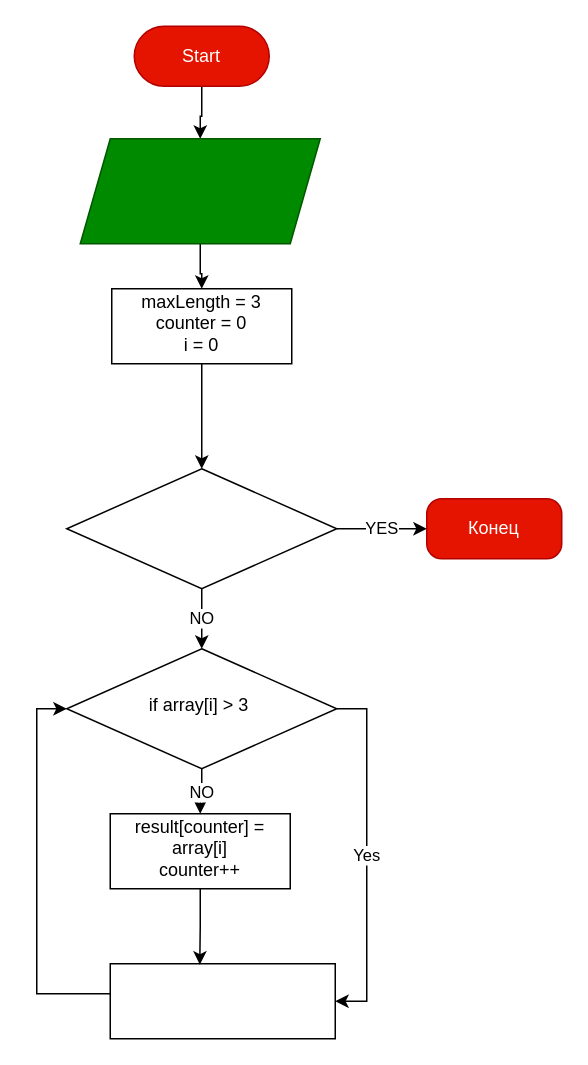
This 588x1065 diagram has some shape labels left out. Each missing label, with the centre of its shape:
i++: the point at 222,1000
if i = size: the point at 201,528
int size String[] array[size] String[] result[size] int maxLength int counter, i: the point at 199,190
